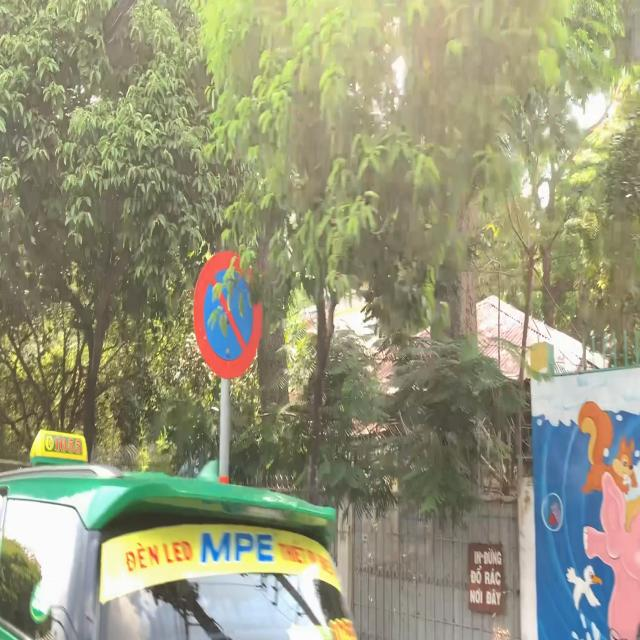Cam do: (193, 250, 263, 380)
